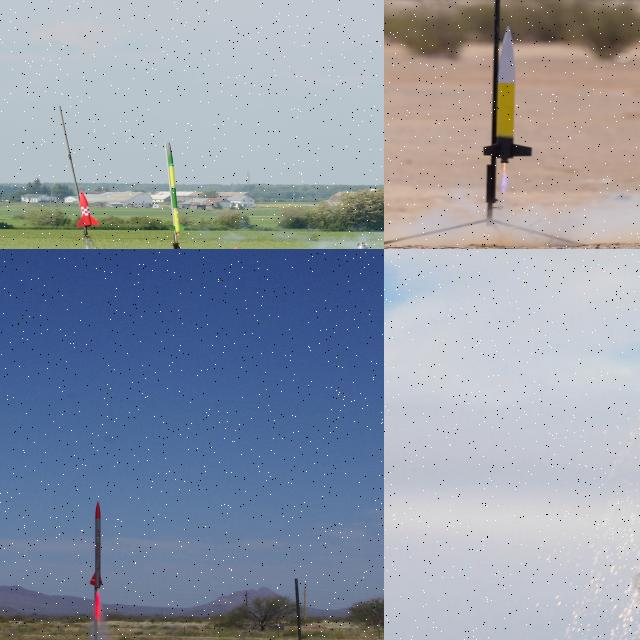Rocket: (484, 24, 532, 164), (168, 141, 186, 234), (88, 500, 104, 590), (76, 189, 99, 228)
